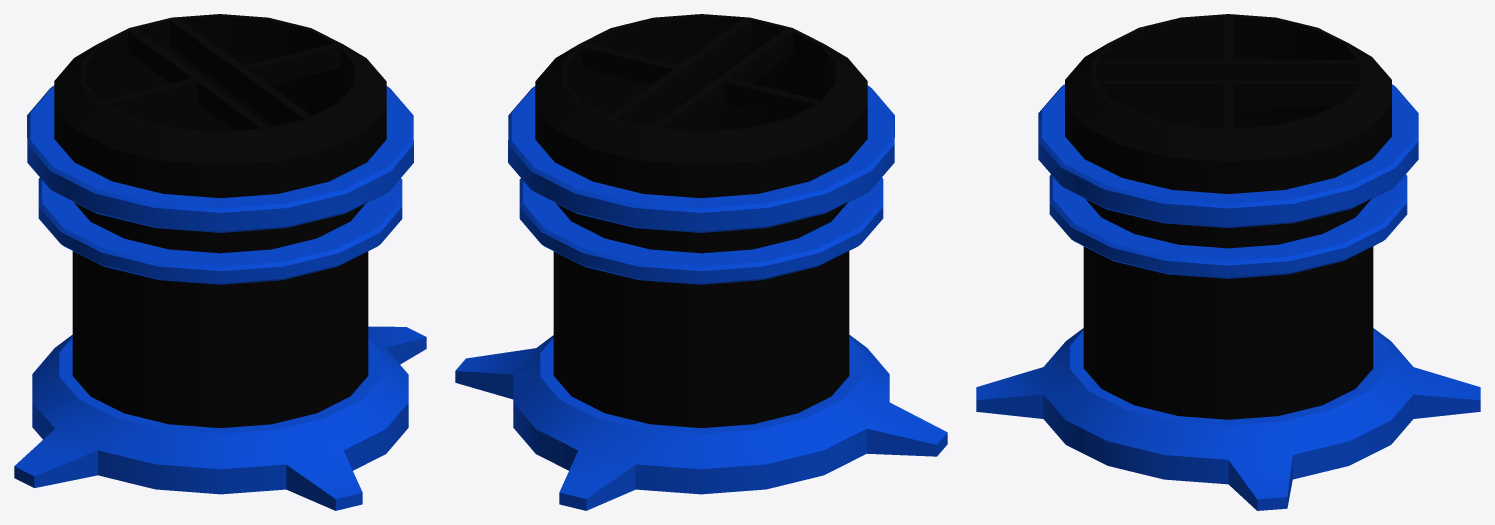
The model's file is TankSmall_SM_V2.FBX.
3 renders of one model, left to right at view 1: azimuth 30°, elevation 25°; view 2: azimuth 150°, elevation 25°; view 3: azimuth 270°, elevation 25°, orthographic. The views are drawn at different scales.
Visible parts, largest first — view 1: Kapsel; view 2: Kapsel; view 3: Kapsel.
Boxes of the visible parts, x1,y1,x2,y2 form: Kapsel: (14,14,426,510); Kapsel: (455,14,947,510); Kapsel: (976,14,1480,510).
Bounding box in the file's own units: 369 × 271 × 372.
